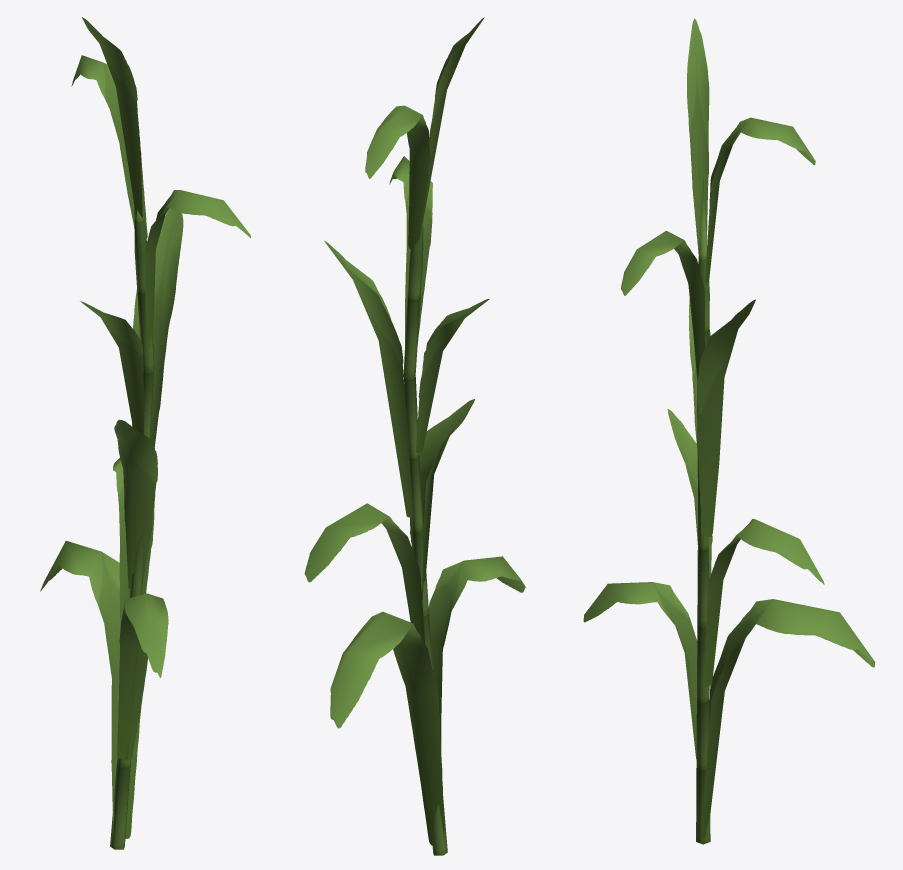
Rendered from Ctn_Reed_01_v03.FBX.
3 renders of one model, left to right at view 1: azimuth 30°, elevation 25°; view 2: azimuth 150°, elevation 25°; view 3: azimuth 270°, elevation 25°, orthographic. The views are drawn at different scales.
Parts seen in each view (by area): view 1: Ctn_Reed_01_v03; view 2: Ctn_Reed_01_v03; view 3: Ctn_Reed_01_v03.
Boxes of the visible parts, x1=… form: Ctn_Reed_01_v03: x1=40, y1=17, x2=250, y2=849; Ctn_Reed_01_v03: x1=304, y1=17, x2=525, y2=855; Ctn_Reed_01_v03: x1=583, y1=18, x2=875, y2=844.
Size of the model in its own units: 20.68 by 110 by 39.01.
